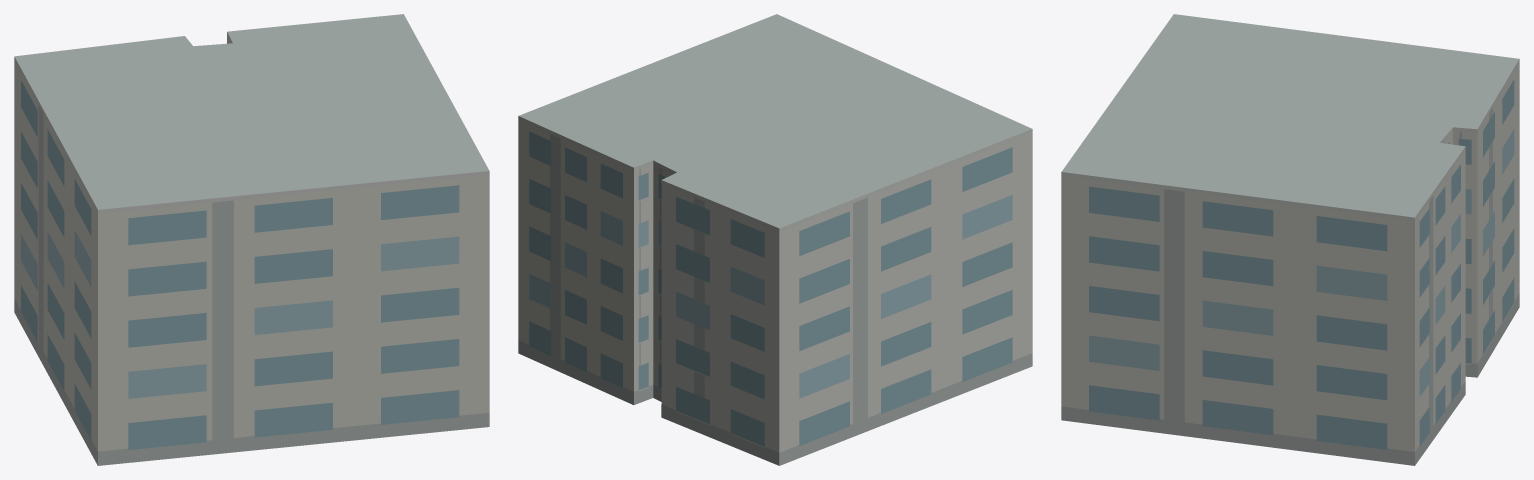
The model's file is survey-upis-32870982.glb.
The picture shows the model from 3 angles, left to right: view 1: azimuth 30°, elevation 25°; view 2: azimuth 150°, elevation 25°; view 3: azimuth 270°, elevation 25°; orthographic projection. The views are drawn at different scales.
Parts seen in each view (by area): view 1: survey-upis-32870982.tmp; view 2: survey-upis-32870982.tmp; view 3: survey-upis-32870982.tmp.
Part boxes in pixels (x1,y1,x2,y2): survey-upis-32870982.tmp: (14, 14, 489, 465); survey-upis-32870982.tmp: (518, 14, 1032, 465); survey-upis-32870982.tmp: (1061, 14, 1519, 465).
Bounding box in the file's own units: 26.82 × 15.25 × 25.51.
